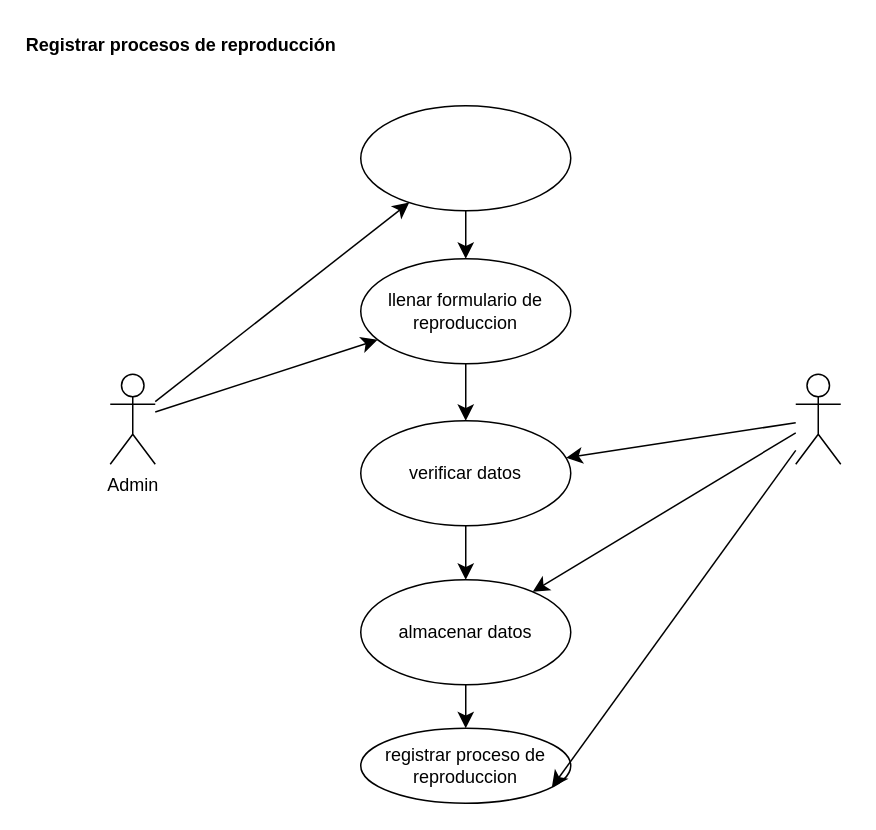
Image size: 876x830. Some labels were removed from this diagram. Each missing label, with the centre of its shape:
"modulo reproduccion" goes at (x=465, y=157).
"Sistema" goes at (x=817, y=418).
